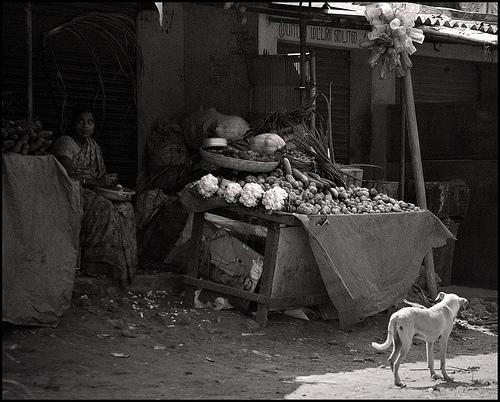cauliflower: (239, 182, 265, 208), (262, 186, 289, 210), (196, 174, 220, 197), (224, 183, 243, 204)
potato: (286, 174, 296, 186), (378, 196, 390, 204), (282, 180, 292, 189), (368, 188, 378, 197), (312, 196, 322, 205), (324, 194, 333, 202), (302, 206, 310, 215), (356, 205, 366, 212), (392, 206, 402, 213), (338, 192, 348, 199), (322, 206, 330, 214), (362, 190, 370, 198), (314, 203, 322, 211), (355, 190, 363, 198), (303, 191, 310, 200), (389, 198, 397, 205), (334, 205, 342, 212), (343, 198, 350, 205), (341, 207, 348, 214), (400, 202, 408, 208), (320, 202, 328, 208), (377, 200, 386, 205), (346, 206, 352, 213), (276, 178, 283, 184), (332, 210, 339, 215), (362, 202, 368, 207), (379, 207, 385, 212), (369, 210, 375, 214), (372, 200, 378, 204), (350, 205, 357, 208), (252, 179, 257, 183), (355, 200, 360, 204), (398, 202, 401, 206)
